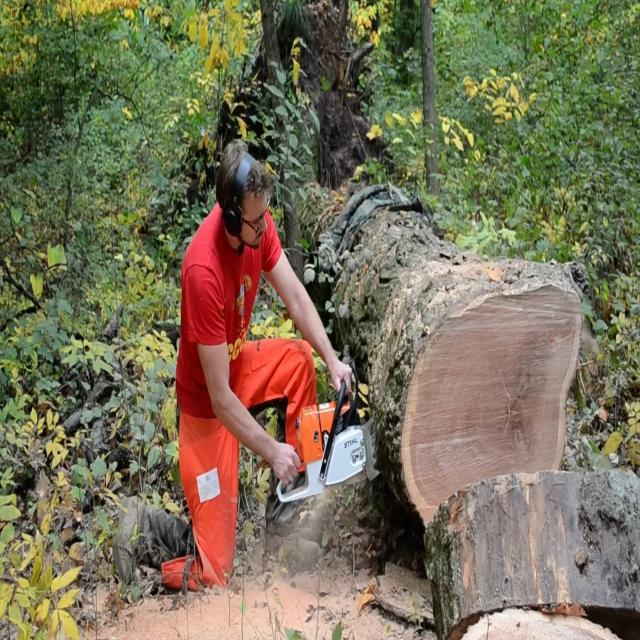Chainsaw: (262, 364, 406, 512)
